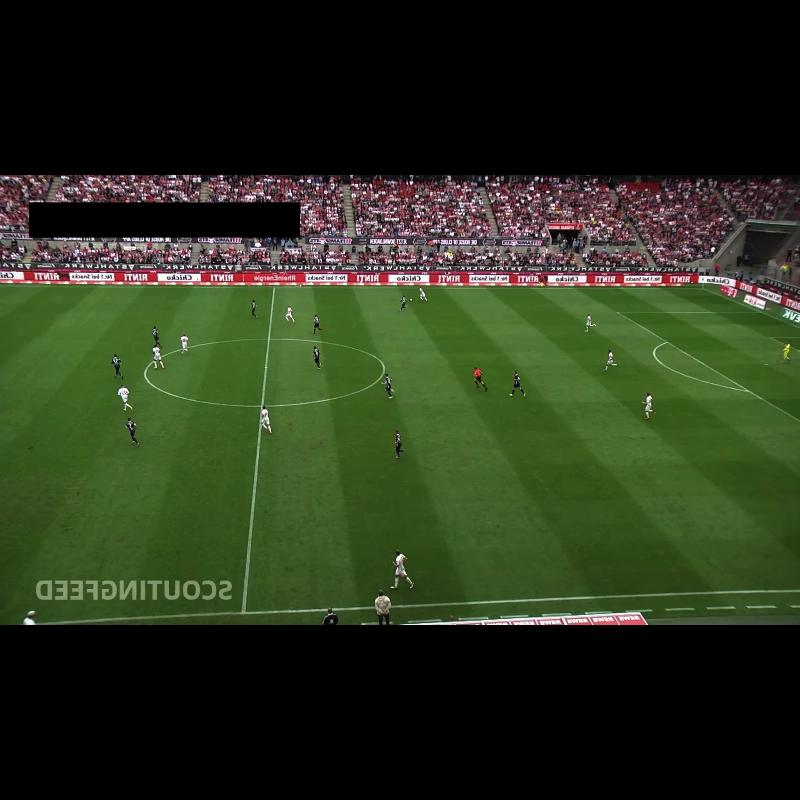cross_recipient_zone: (619, 312, 800, 421)
crossing_player_zone: (690, 460, 800, 568), (487, 288, 761, 313), (0, 287, 44, 320)
pitch: (0, 286, 800, 625)
